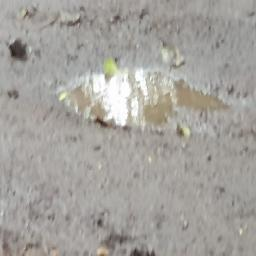water accumulation: (58, 71, 230, 127)
